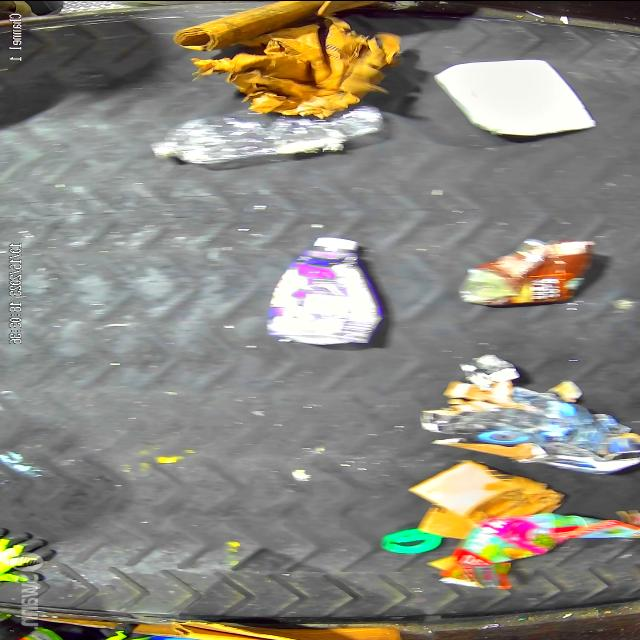plastic_bottle: (148, 108, 368, 165)
